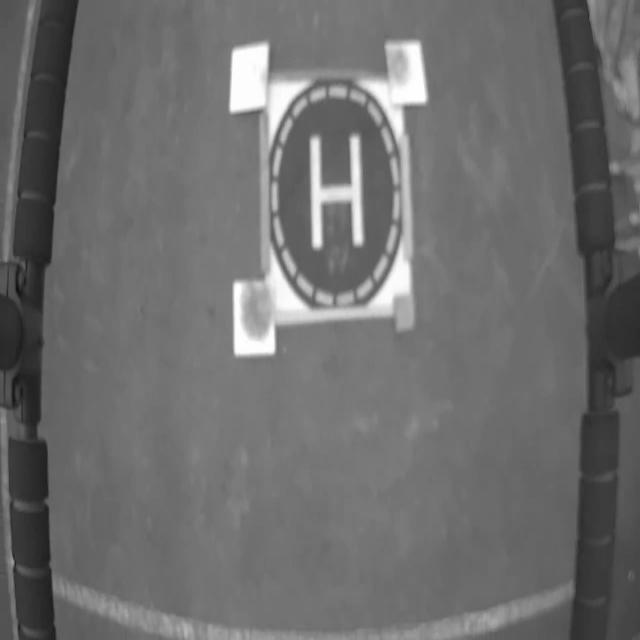Helipad: (309, 133, 367, 251)
